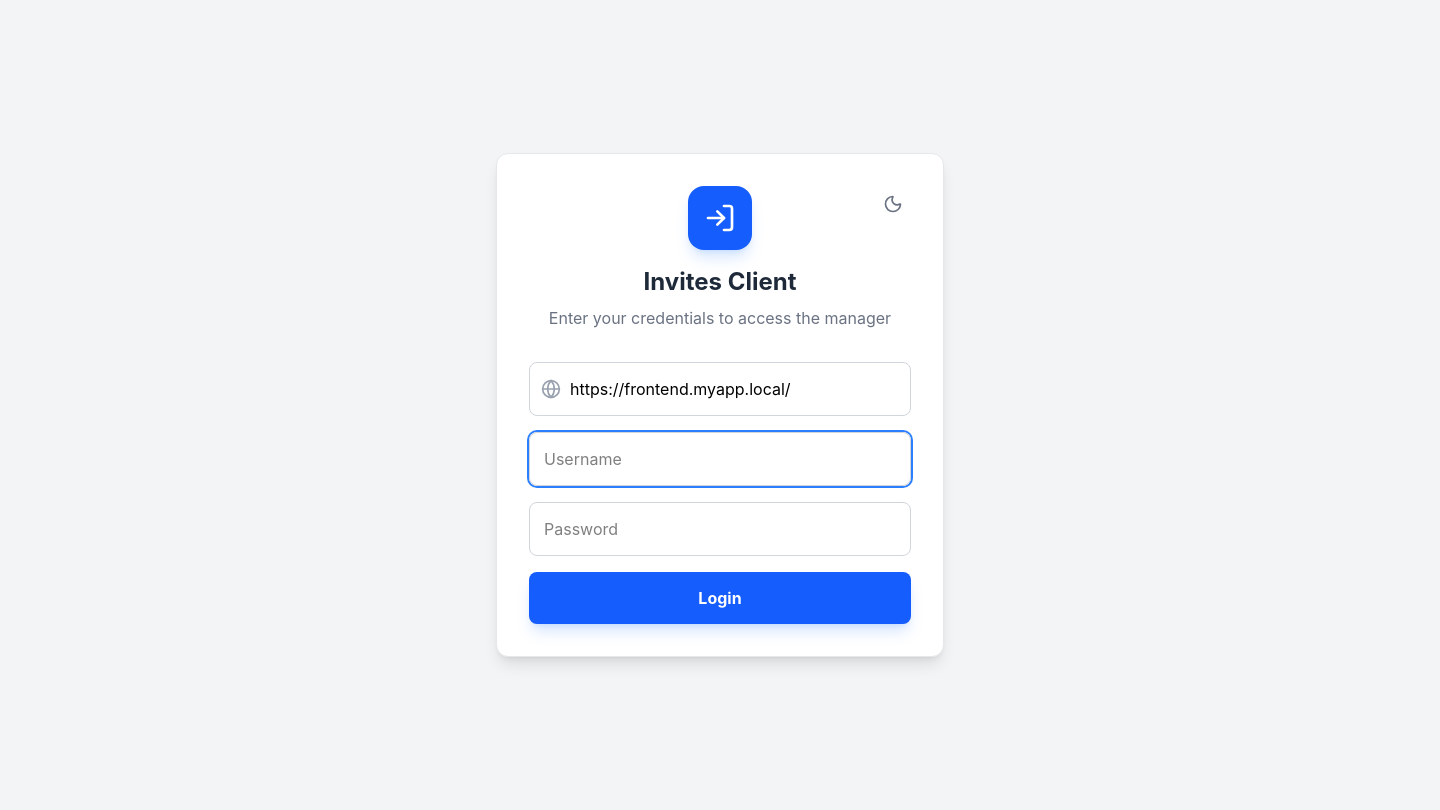
login flow › routes to the OTP setup screen when an auth URL is returned
This screenshot has width=1440, height=810.
Type "newuser" into the field with placeholder "Username".
click(720, 459); type("newuser")  # box [529, 432, 911, 486]
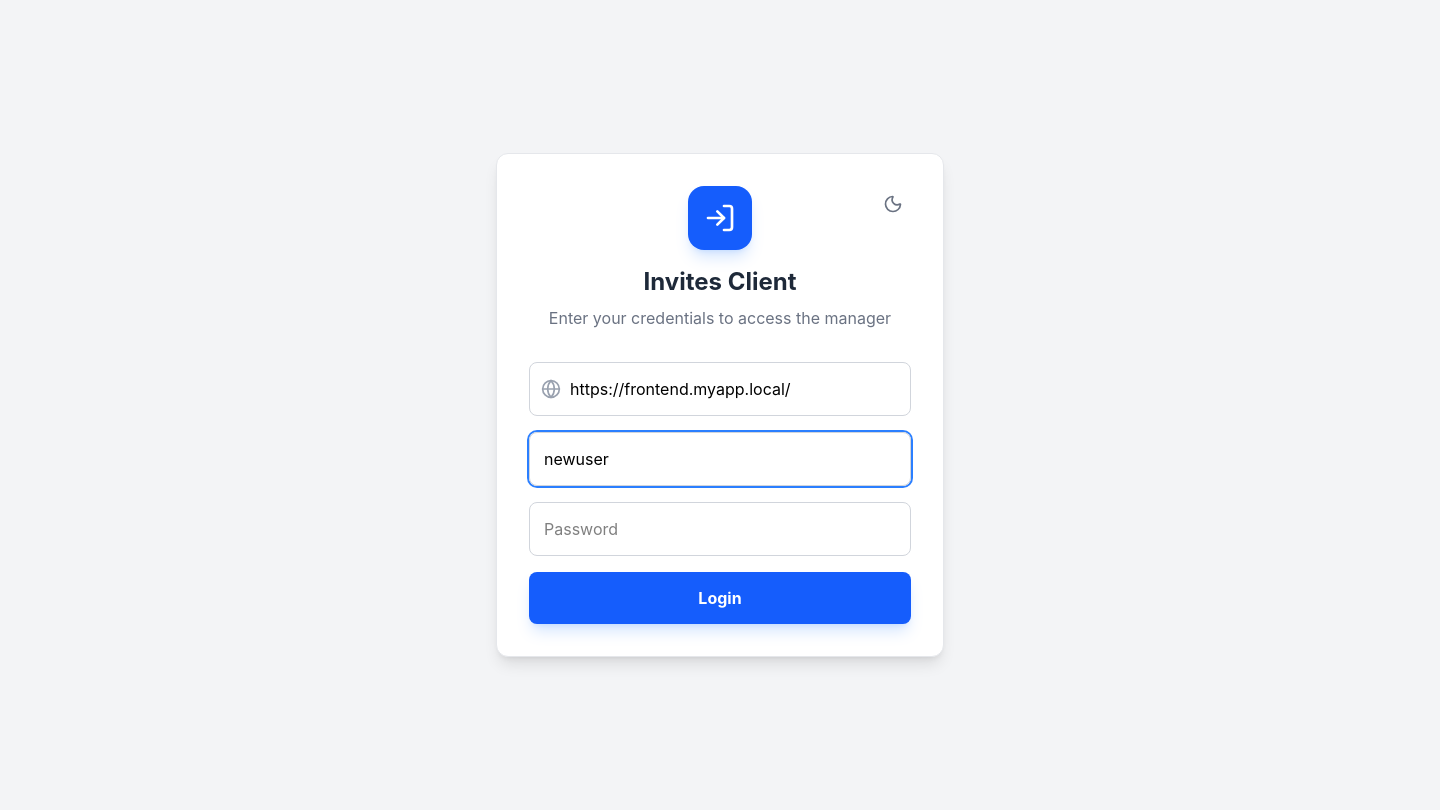
Type "pw" into the password field with placeholder "Password".
click(720, 529); type("pw")  # box [529, 502, 911, 556]
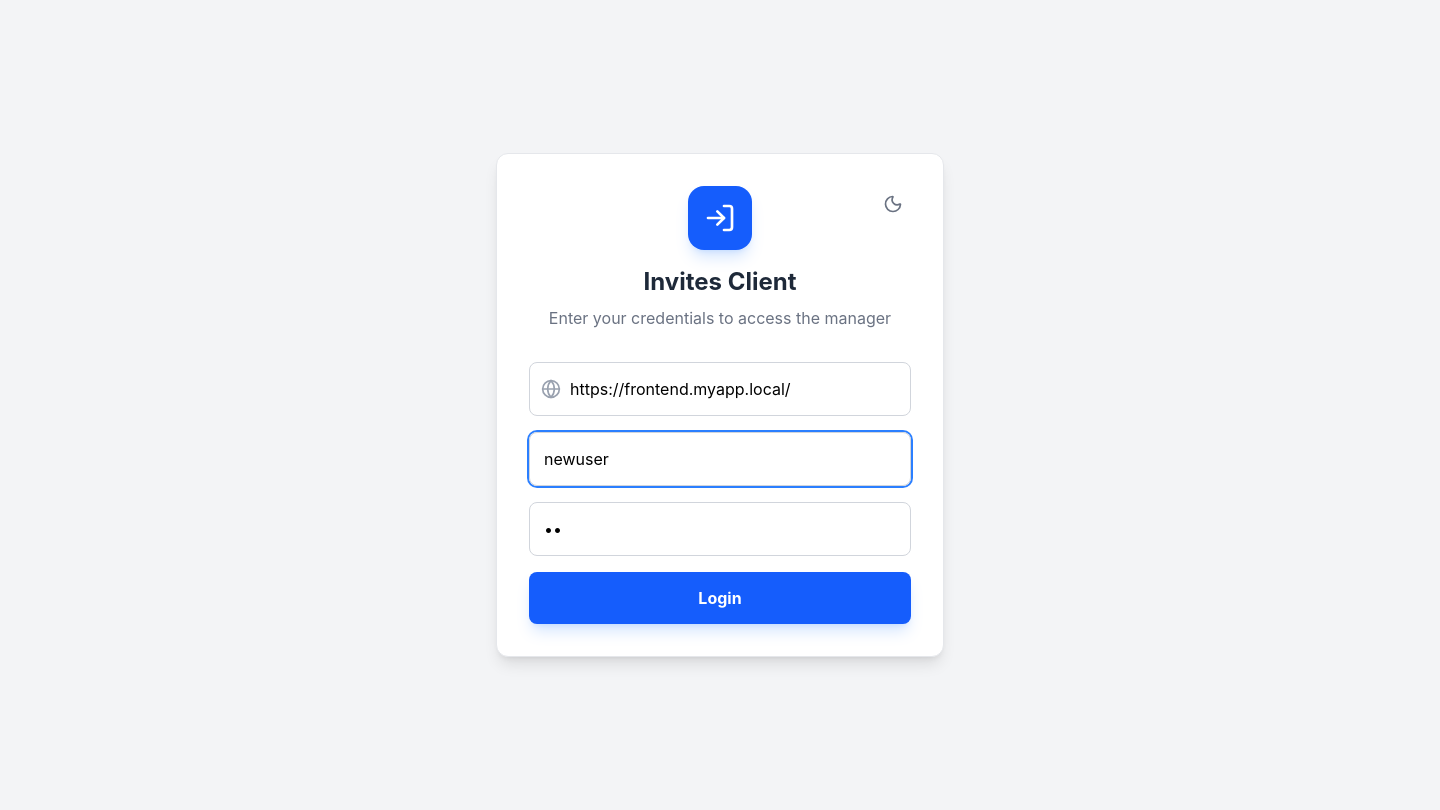
Click the button "Login".
click(720, 598)  # box [529, 572, 911, 624]
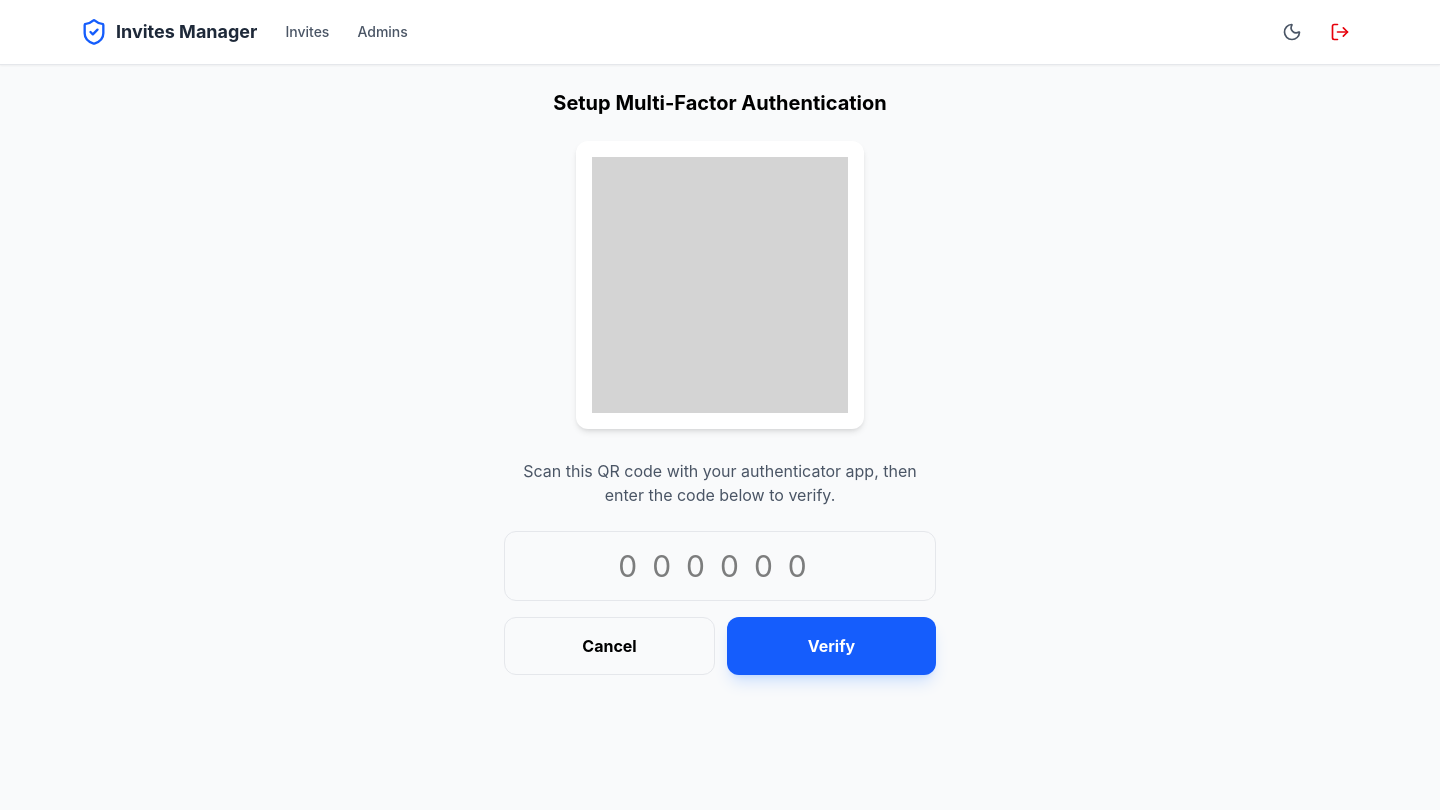
Now the heading "Setup Multi-Factor Authentication" is shown, box [553, 91, 887, 115]
